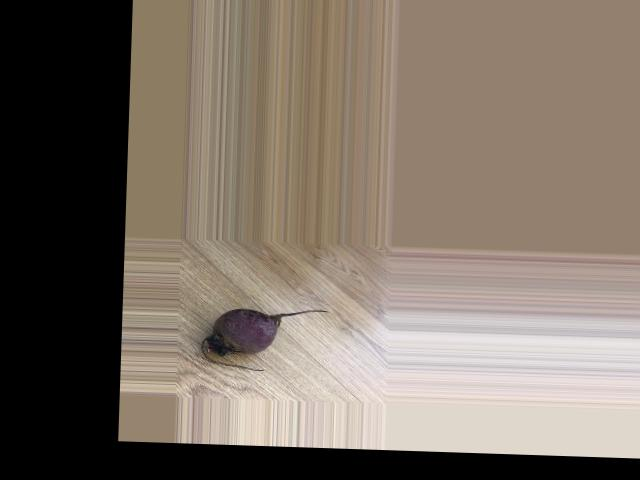beet: (201, 305, 329, 372)
